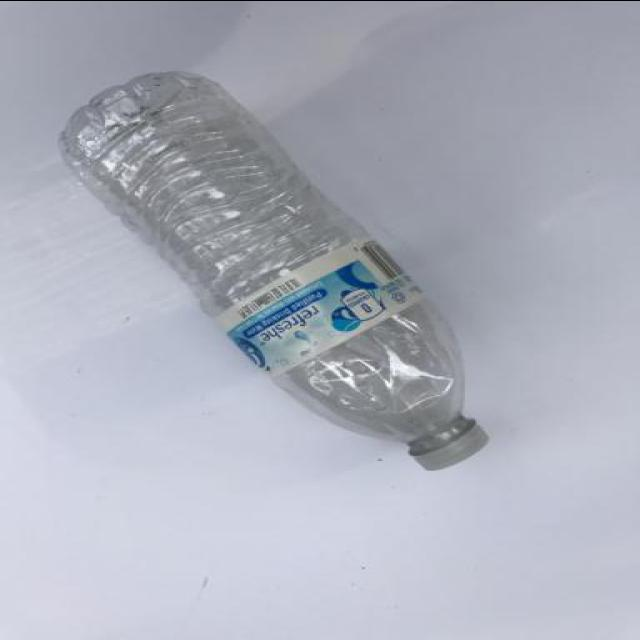PET: (55, 70, 497, 471)
